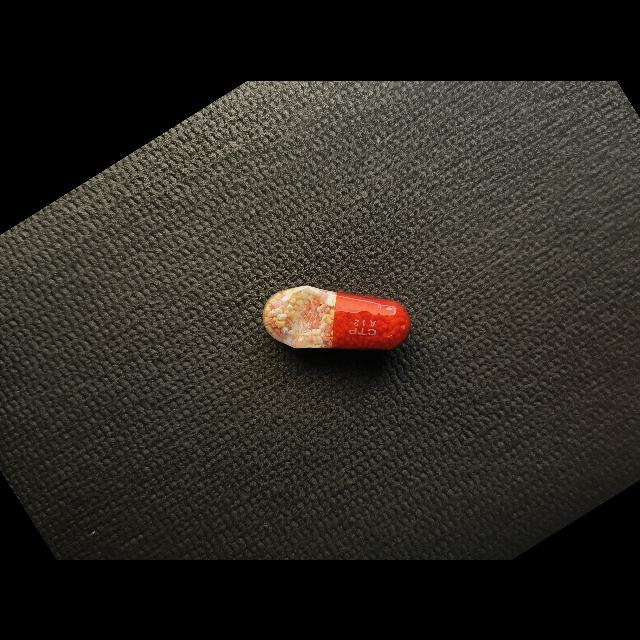Defective Capsule: (263, 285, 411, 349)
